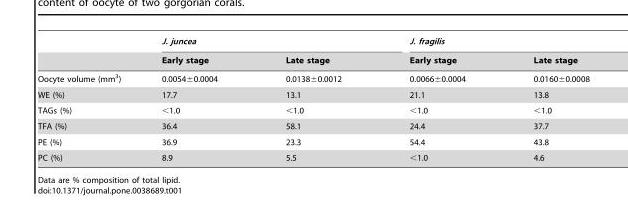table: (37, 36, 588, 161)
table column: (250, 36, 374, 161), (374, 36, 498, 161), (140, 36, 250, 161), (37, 36, 140, 161), (498, 36, 588, 161)
table column header: (37, 36, 588, 68)
table row: (37, 50, 588, 68), (37, 68, 588, 86), (37, 86, 588, 102), (37, 102, 588, 118), (37, 133, 588, 149), (37, 118, 588, 133), (37, 36, 588, 50), (37, 149, 588, 161)
table spanning cell: (140, 36, 374, 50), (374, 36, 588, 50)
